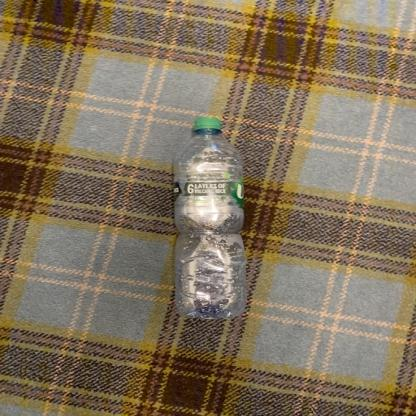trash: (172, 118, 246, 323)
